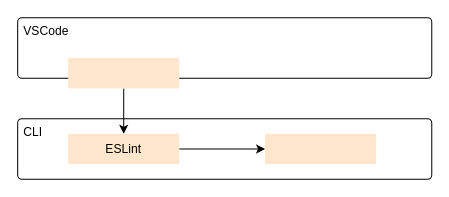
Some shapes in this 449 by 197 pixel diagram are drawn without their labels. Each missing label, with the centre of its shape:
ESLint(Extension): pixel 123 73
Prettier: pixel 320 148
